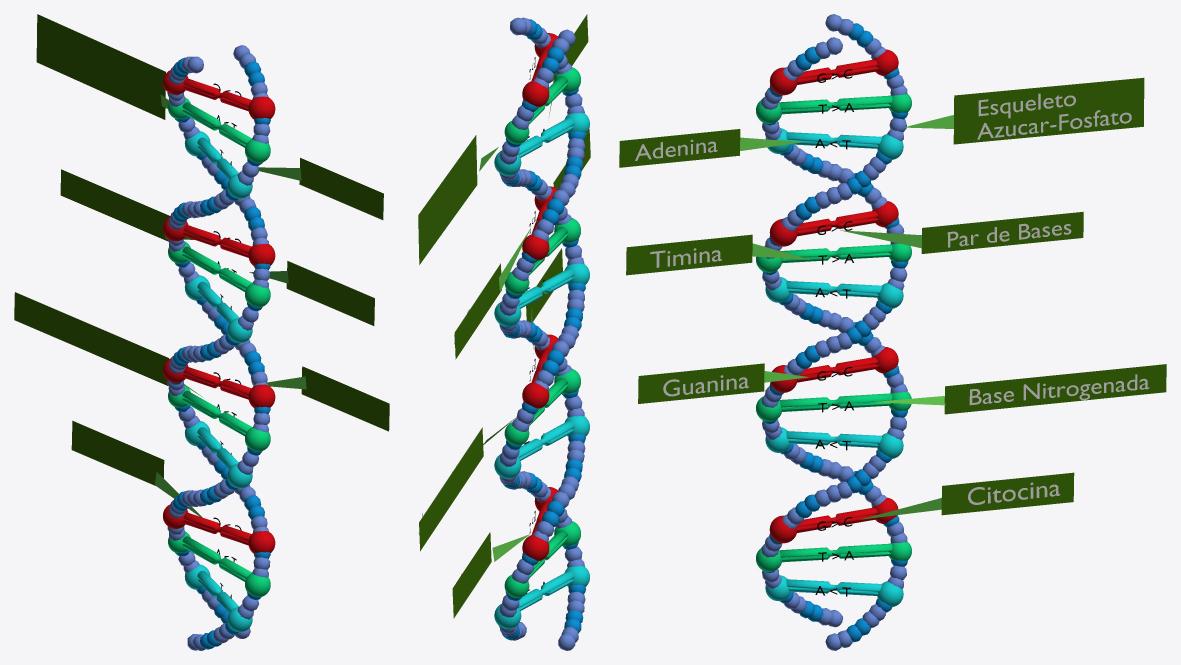
File: ADN.fbx
3 views of the same model, side by side, from view 1: azimuth 30°, elevation 25°; view 2: azimuth 150°, elevation 25°; view 3: azimuth 270°, elevation 25° (orthographic). The views are drawn at different scales.
Visible parts, largest first — view 1: Plane.003, Sphere.145_Sphere.336, Sphere.190_Sphere.384, Sphere.045_Sphere.378, Sphere.191_Sphere.385, Sphere.013_Sphere.383, Sphere.194_Sphere.388, Sphere.187_Sphere.380, Sphere.192_Sphere.386, Sphere.193_Sphere.387, Plane.011_Plane.007, Sphere.196_Sphere.390 (+3 smaller); view 2: Sphere.145_Sphere.336, Plane.003, Sphere.196_Sphere.390, Sphere.195_Sphere.389, Sphere.189_Sphere.382, Sphere.197_Sphere.391, Sphere.194_Sphere.388, Sphere.187_Sphere.380, Sphere.193_Sphere.387, Sphere.192_Sphere.386, Sphere.190_Sphere.384, Sphere.045_Sphere.378 (+3 smaller); view 3: Plane.003, Sphere.145_Sphere.336, Plane.011_Plane.007, Sphere.187_Sphere.380, Sphere.194_Sphere.388, Sphere.193_Sphere.387, Sphere.196_Sphere.390, Sphere.195_Sphere.389, Sphere.197_Sphere.391, Sphere.192_Sphere.386, Sphere.013_Sphere.383, Sphere.045_Sphere.378 (+7 smaller).
Part boxes in pixels (<box>): Plane.003: <box>14,14,389,485</box>; Sphere.145_Sphere.336: <box>167,45,270,650</box>; Sphere.190_Sphere.384: <box>163,358,275,407</box>; Sphere.045_Sphere.378: <box>163,70,275,119</box>; Sphere.191_Sphere.385: <box>163,504,275,553</box>; Sphere.013_Sphere.383: <box>163,217,275,265</box>; Sphere.194_Sphere.388: <box>168,531,270,597</box>; Sphere.187_Sphere.380: <box>168,97,270,162</box>; Sphere.192_Sphere.386: <box>168,241,270,307</box>; Sphere.193_Sphere.387: <box>168,385,270,451</box>; Plane.011_Plane.007: <box>155,94,306,517</box>; Sphere.196_Sphere.390: <box>185,421,252,488</box>; Sphere.145_Sphere.336: <box>499,17,585,650</box>; Plane.003: <box>418,14,590,618</box>; Sphere.196_Sphere.390: <box>494,416,589,478</box>; Sphere.195_Sphere.389: <box>494,263,589,326</box>; Sphere.189_Sphere.382: <box>494,113,589,175</box>; Sphere.197_Sphere.391: <box>494,566,589,628</box>; Sphere.194_Sphere.388: <box>504,521,580,597</box>; Sphere.187_Sphere.380: <box>504,67,580,144</box>; Sphere.193_Sphere.387: <box>504,368,580,445</box>; Sphere.192_Sphere.386: <box>504,218,580,294</box>; Sphere.190_Sphere.384: <box>522,334,558,408</box>; Sphere.045_Sphere.378: <box>522,33,558,107</box>; Plane.003: <box>619,77,1166,515</box>; Sphere.145_Sphere.336: <box>761,14,908,650</box>; Plane.011_Plane.007: <box>740,115,953,519</box>; Sphere.187_Sphere.380: <box>756,94,911,123</box>; Sphere.194_Sphere.388: <box>756,542,911,571</box>; Sphere.193_Sphere.387: <box>756,391,911,421</box>; Sphere.196_Sphere.390: <box>765,427,903,458</box>; Sphere.195_Sphere.389: <box>765,277,903,308</box>; Sphere.197_Sphere.391: <box>765,575,903,607</box>; Sphere.192_Sphere.386: <box>756,243,911,272</box>; Sphere.013_Sphere.383: <box>769,201,898,246</box>; Sphere.045_Sphere.378: <box>769,49,898,95</box>.
Bounding box in the file's own units: 386 × 1822 × 1477.
